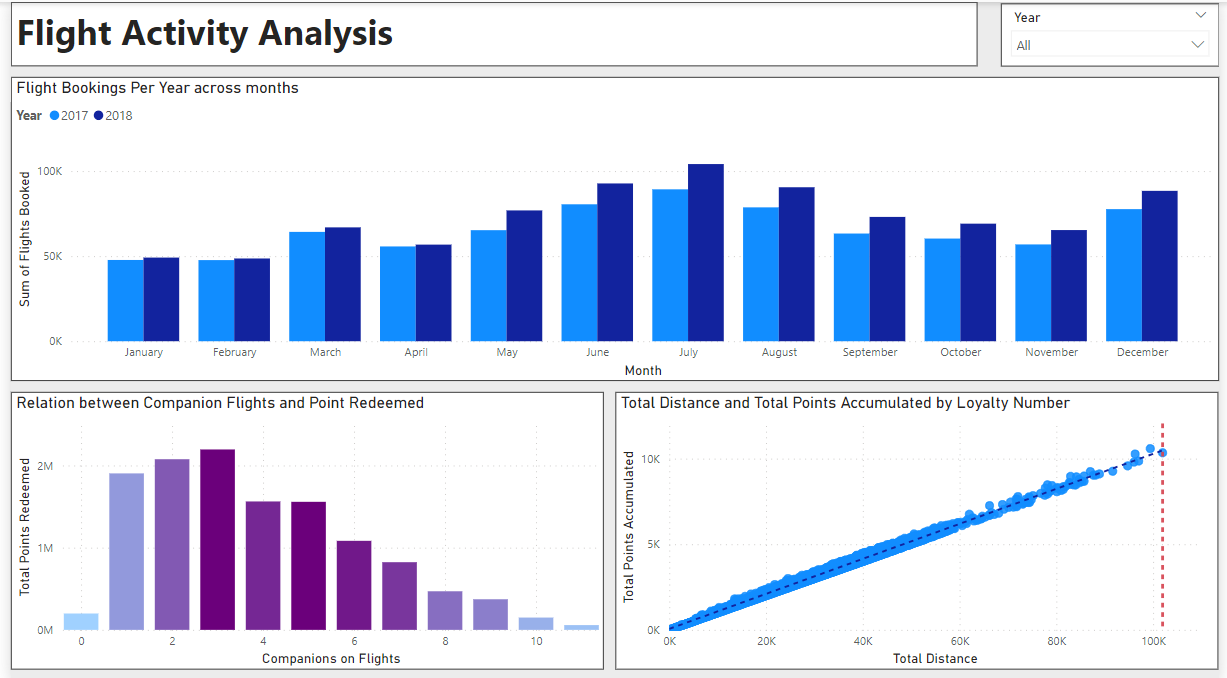

What the dashboard file says about the page in this screenshot:
{"tool":"powerbi","page":{"name":"Flight Activity ","canvas":[1280,720],"ordinal":1},"visuals":[{"type":"clusteredColumnChart","title":"Flight Bookings Per Year across months","fields":{"Category":["Customer Flight Activity.NewDate.Variation.Date Hierarchy.Month"],"Y":["Sum(Customer Flight Activity.Flights Booked)"],"Series":["Customer Flight Activity.Year"]},"box":[0,79.3,1279.8,322],"z":0},{"type":"columnChart","title":"Relation between Companion Flights and Point Redeemed","fields":{"Category":["Customer Flight Activity.Flights with Companions"],"Y":["Customer Flight Activity.Total Points Redeemed"]},"box":[0,413.2,627.8,294],"z":1000},{"type":"scatterChart","fields":{"Category":["Customer Flight Activity.Loyalty Number"],"X":["Customer Flight Activity.Total Distance"],"Y":["Customer Flight Activity.Total Points Accumulated"]},"box":[640.5,413.2,638.9,294],"z":2000},{"type":"slicer","fields":{"Values":["Customer Flight Activity.NewDate.Variation.Date Hierarchy.Year"]},"box":[1048.4,1.6,231.4,66.3],"z":3000},{"type":"textbox","box":[0,0,1024.2,68],"z":4000}]}

Visuals, with their boxes in screenshot pixels (x1, y1, x2, y2), scaled from the page's 1280x720 canvas onto the 1227x678 screenshot:
"Flight Bookings Per Year across months" clusteredColumnChart: crop(0, 75, 1226, 378)
"Relation between Companion Flights and Point Redeemed" columnChart: crop(0, 389, 602, 666)
scatterChart - Customer Flight Activity.Loyalty Number x Customer Flight Activity.Total Distance: crop(614, 389, 1226, 666)
slicer - Customer Flight Activity.NewDate.Variation.Date Hierarchy.Year: crop(1005, 2, 1226, 64)
textbox: crop(0, 0, 982, 64)
